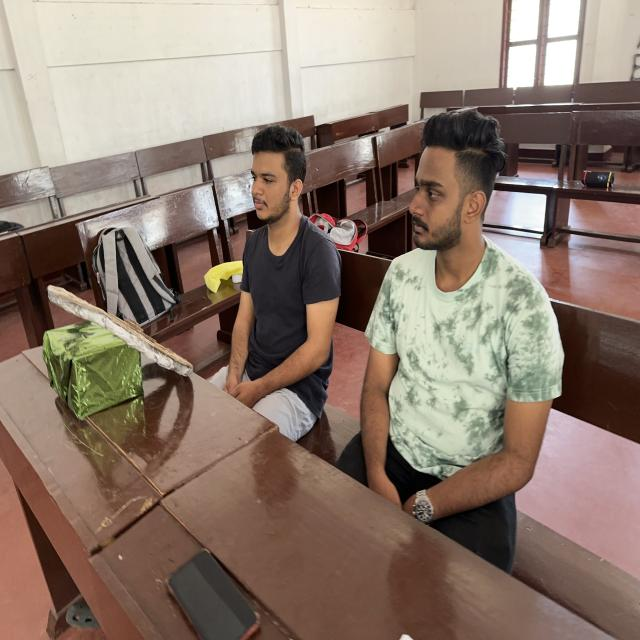no-seatbelt: (369, 251, 558, 532), (234, 224, 338, 436)
